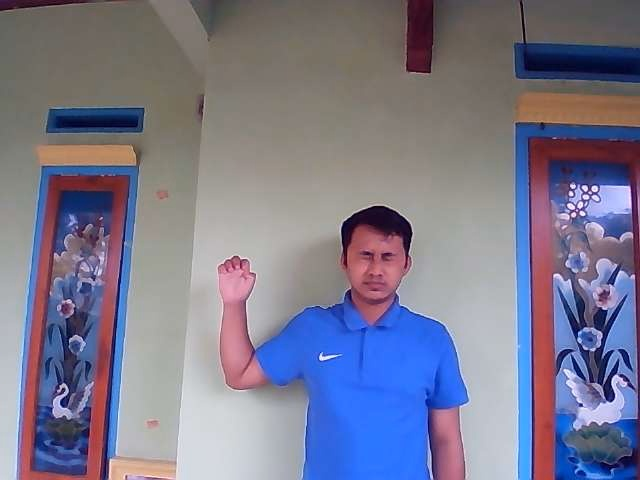E: (217, 254, 256, 304)
